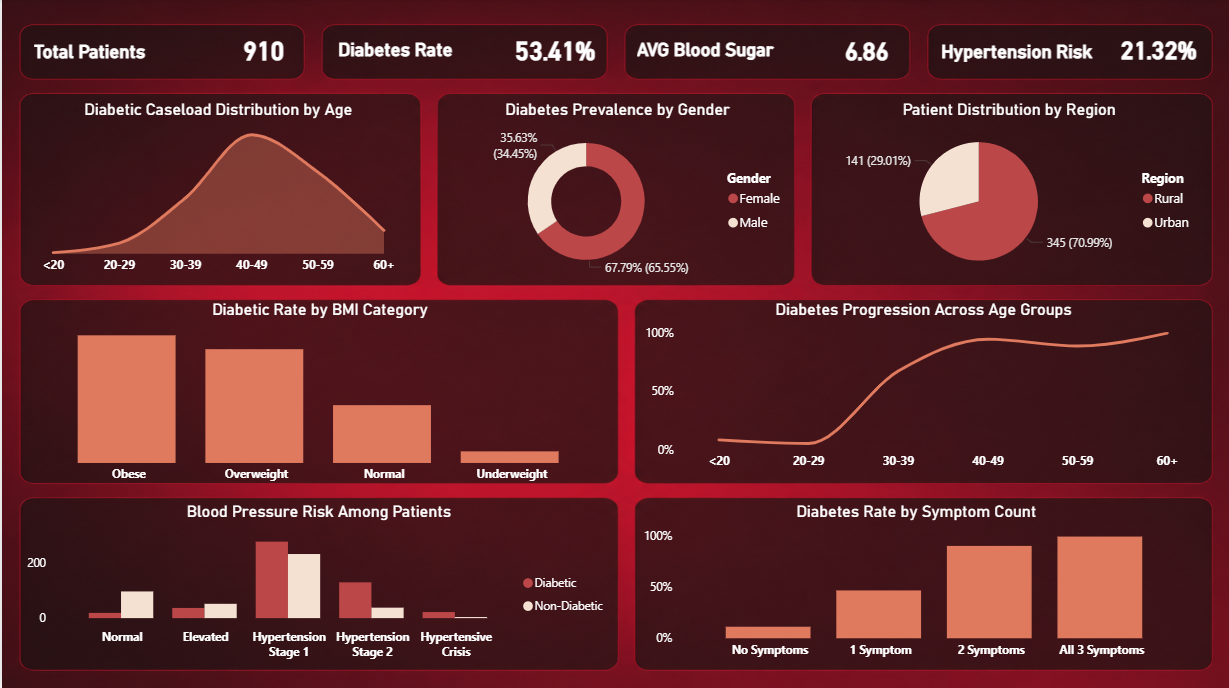

This screenshot's page, from the dashboard's own definition file:
{"tool":"powerbi","page":{"name":"Page 1","canvas":[1280,720],"ordinal":0},"visuals":[{"type":"lineChart","title":"Diabetes Progression Across Age Groups","fields":{"Y":["cleaned_diabetes_dataset.Diabetic Rate %"],"Category":["cleaned_diabetes_dataset.Age_Group"]},"box":[664,314,592,186],"z":0},{"type":"card","fields":{"Values":["cleaned_diabetes_dataset.Total Patients"]},"box":[206,22,132,64],"z":1},{"type":"card","fields":{"Values":["cleaned_diabetes_dataset.Diabetic Rate %"]},"box":[510,22,132,64],"z":2},{"type":"card","fields":{"Values":["cleaned_diabetes_dataset.Avg A1C"]},"box":[835,22,132,64],"z":3},{"type":"card","fields":{"Values":["cleaned_diabetes_dataset.% High Blood Pressure Risk"]},"box":[1140,22.2,131.1,63.3],"z":4},{"type":"donutChart","title":"Diabetes Prevalence by Gender","fields":{"Category":["cleaned_diabetes_dataset.Gender_Label"],"Y":["cleaned_diabetes_dataset.Diabetic Rate %"]},"box":[456,106,370,190],"z":5},{"type":"textbox","box":[27.8,38.9,164.4,37.8],"z":6},{"type":"textbox","box":[346,38,168,44],"z":7},{"type":"textbox","box":[656,38,192,44],"z":8},{"type":"textbox","box":[973.3,38.3,188.3,38.3],"z":9},{"type":"clusteredColumnChart","title":"Diabetic Rate by BMI Category","fields":{"Category":["cleaned_diabetes_dataset.BMI_Category"],"Y":["cleaned_diabetes_dataset.Diabetic Rate %"]},"box":[20,314,622,200],"z":10},{"type":"areaChart","title":"Diabetic Caseload Distribution by Age","fields":{"Y":["cleaned_diabetes_dataset.Diabetic Count"],"Category":["cleaned_diabetes_dataset.Age_Group"]},"box":[20,106.7,410,190],"z":11},{"type":"pieChart","title":"Patient Distribution by Region","fields":{"Category":["cleaned_diabetes_dataset.Region_Label"],"Y":["cleaned_diabetes_dataset.Diabetic Count"]},"box":[842,106,414,190],"z":12},{"type":"clusteredColumnChart","title":"Diabetes Rate by Symptom Count","fields":{"Category":["cleaned_diabetes_dataset.Symptom_Burden_Label"],"Y":["cleaned_diabetes_dataset.Diabetic Rate %"]},"box":[663.3,525,580,171.7],"z":13},{"type":"clusteredColumnChart","title":"Blood Pressure Risk Among Patients","fields":{"Y":["cleaned_diabetes_dataset.Total Patients"],"Series":["cleaned_diabetes_dataset.Outcome_Label"],"Category":["cleaned_diabetes_dataset.BP_Category"]},"box":[20,525,620,171.7],"z":14}]}

Visuals, with their boxes in screenshot pixels (x1, y1, x2, y2), scaled from the page's 1280x720 canvas onto the 1229x688 screenshot:
"Diabetes Progression Across Age Groups" lineChart: left=638, top=300, right=1206, bottom=478
card - cleaned_diabetes_dataset.Total Patients: left=198, top=21, right=325, bottom=82
card - cleaned_diabetes_dataset.Diabetic Rate %: left=490, top=21, right=616, bottom=82
card - cleaned_diabetes_dataset.Avg A1C: left=802, top=21, right=928, bottom=82
card - cleaned_diabetes_dataset.% High Blood Pressure Risk: left=1095, top=21, right=1220, bottom=82
"Diabetes Prevalence by Gender" donutChart: left=438, top=101, right=793, bottom=283
textbox: left=27, top=37, right=185, bottom=73
textbox: left=332, top=36, right=494, bottom=78
textbox: left=630, top=36, right=814, bottom=78
textbox: left=935, top=37, right=1115, bottom=73
"Diabetic Rate by BMI Category" clusteredColumnChart: left=19, top=300, right=616, bottom=491
"Diabetic Caseload Distribution by Age" areaChart: left=19, top=102, right=413, bottom=284
"Patient Distribution by Region" pieChart: left=808, top=101, right=1206, bottom=283
"Diabetes Rate by Symptom Count" clusteredColumnChart: left=637, top=502, right=1194, bottom=666
"Blood Pressure Risk Among Patients" clusteredColumnChart: left=19, top=502, right=614, bottom=666
